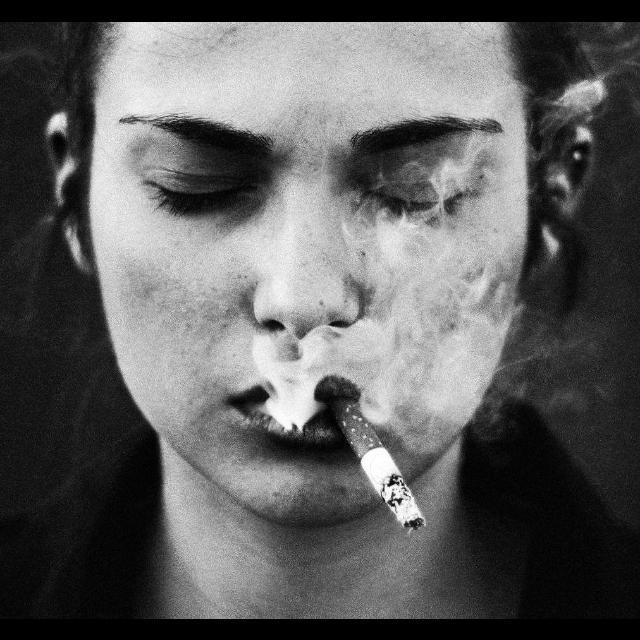rokok: (322, 384, 438, 550)
